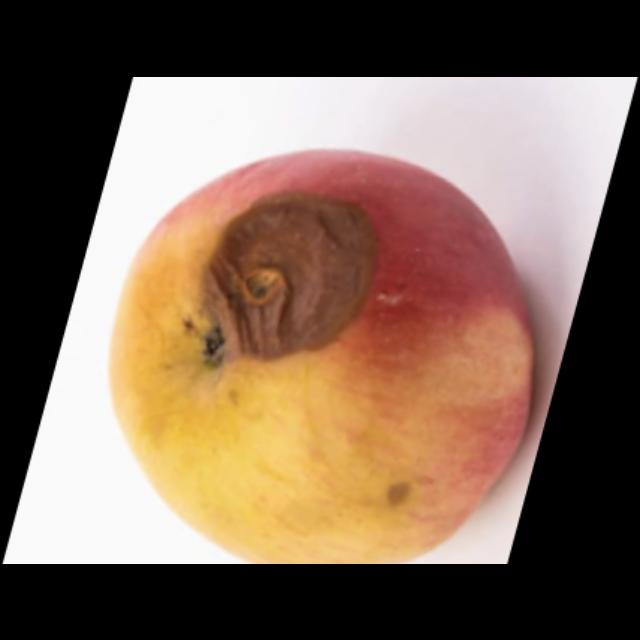Apel Tidak Segar: (115, 156, 531, 563)
